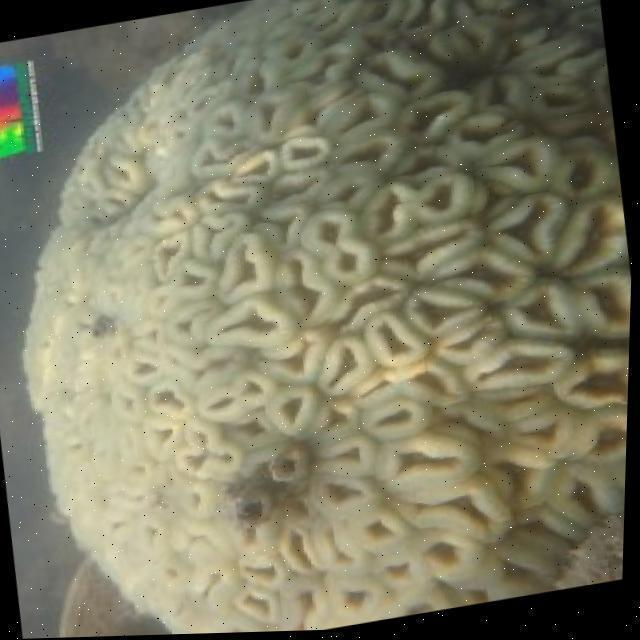Bleached Coral: (46, 41, 618, 568)
